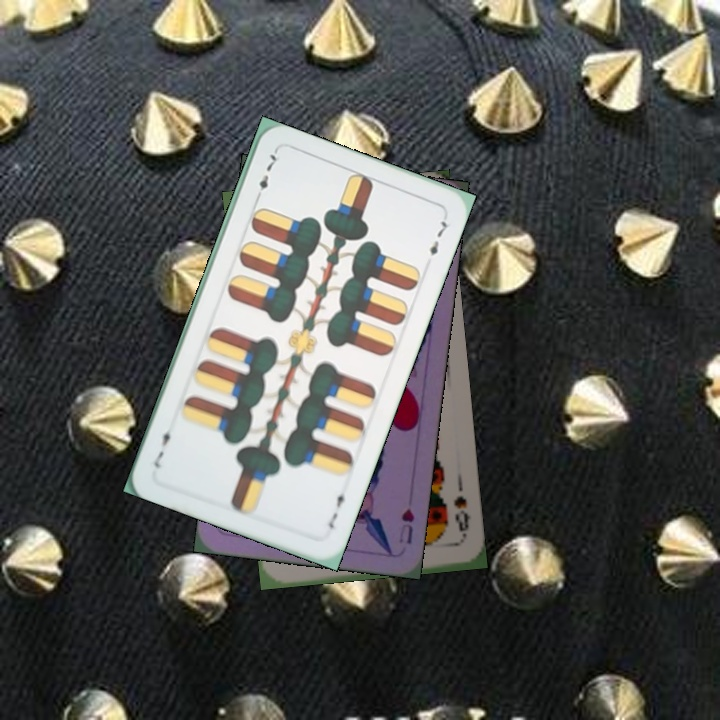E7: (251, 147, 281, 204), (324, 483, 351, 532)
HU: (395, 504, 417, 547)
S8: (450, 492, 472, 545)
